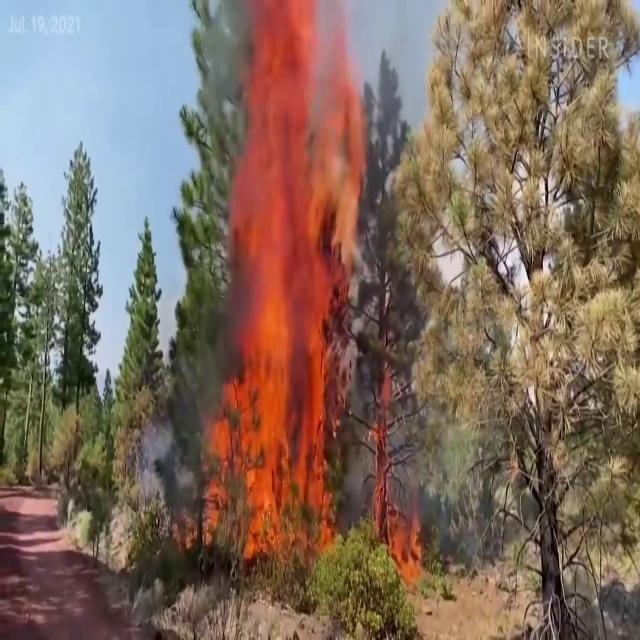Fire: (201, 3, 369, 561)
